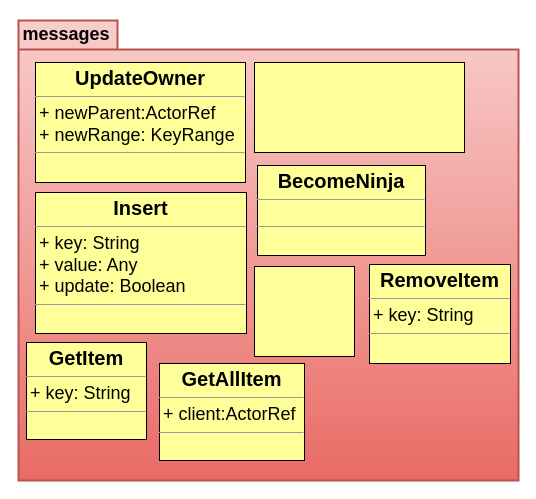
The diagram is 536 pixels wide and 499 high, and some of its shapes have lost their labels. The centre of each missing label's shape, as x and y in pixels:
"BecomeStorekeeper" belongs at (359,107).
"Persist" belongs at (304,311).
